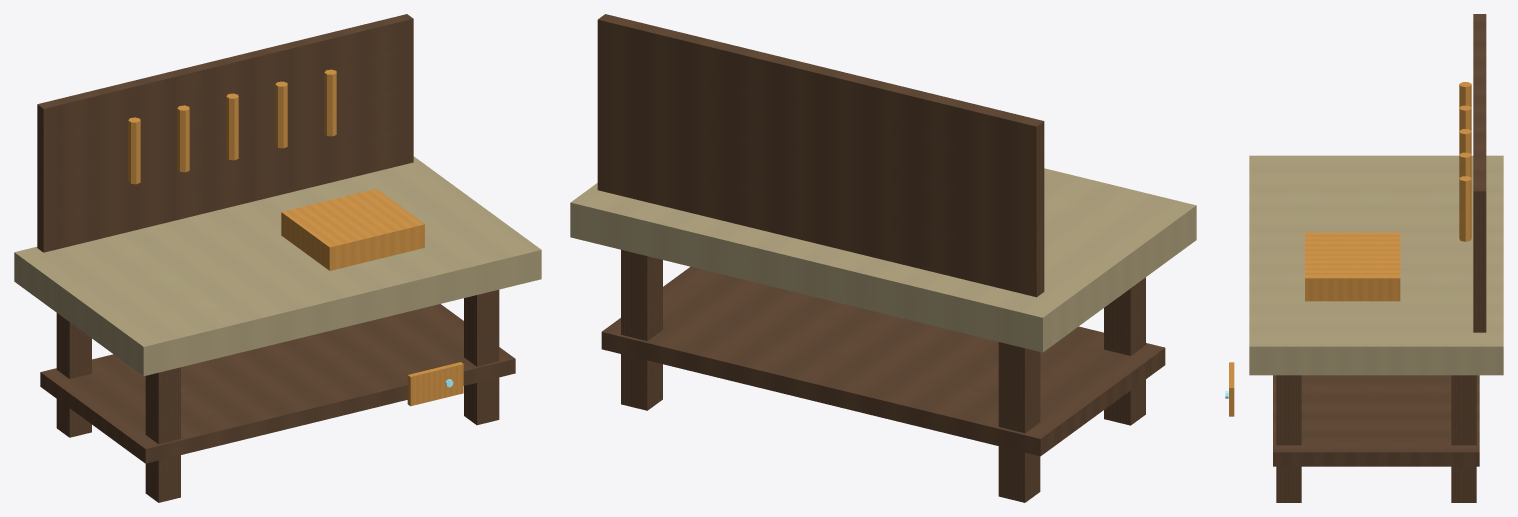
The model's file is atlas100-s020-a06.lod1.glb.
The picture shows the model from 3 angles, left to right: view 1: azimuth 30°, elevation 25°; view 2: azimuth 150°, elevation 25°; view 3: azimuth 270°, elevation 25°; orthographic projection. The views are drawn at different scales.
Visible parts, largest first — view 1: atlas100-s020-a06:part-004, atlas100-s020-a06:part-006, atlas100-s020-a06:part-005, atlas100-s020-a06:part-012, atlas100-s020-a06:part-003, atlas100-s020-a06:part-001, atlas100-s020-a06:part-000, atlas100-s020-a06:part-013, atlas100-s020-a06:part-007, atlas100-s020-a06:part-009, atlas100-s020-a06:part-011, atlas100-s020-a06:part-008 (+1 smaller); view 2: atlas100-s020-a06:part-006, atlas100-s020-a06:part-005, atlas100-s020-a06:part-004, atlas100-s020-a06:part-000, atlas100-s020-a06:part-002, atlas100-s020-a06:part-001; view 3: atlas100-s020-a06:part-004, atlas100-s020-a06:part-005, atlas100-s020-a06:part-012, atlas100-s020-a06:part-006, atlas100-s020-a06:part-002, atlas100-s020-a06:part-003, atlas100-s020-a06:part-011, atlas100-s020-a06:part-013, atlas100-s020-a06:part-010.
Part boxes in pixels (<box>): atlas100-s020-a06:part-004: <box>14,156,541,376</box>; atlas100-s020-a06:part-006: <box>37,14,413,252</box>; atlas100-s020-a06:part-005: <box>40,304,515,463</box>; atlas100-s020-a06:part-012: <box>281,189,424,270</box>; atlas100-s020-a06:part-003: <box>464,289,499,425</box>; atlas100-s020-a06:part-001: <box>145,367,180,502</box>; atlas100-s020-a06:part-000: <box>56,313,91,437</box>; atlas100-s020-a06:part-013: <box>407,362,463,406</box>; atlas100-s020-a06:part-007: <box>128,117,140,184</box>; atlas100-s020-a06:part-009: <box>226,93,238,160</box>; atlas100-s020-a06:part-011: <box>324,69,336,136</box>; atlas100-s020-a06:part-008: <box>177,105,189,172</box>; atlas100-s020-a06:part-006: <box>597,14,1044,297</box>; atlas100-s020-a06:part-005: <box>601,266,1165,456</box>; atlas100-s020-a06:part-004: <box>570,168,1196,352</box>; atlas100-s020-a06:part-000: <box>998,342,1040,502</box>; atlas100-s020-a06:part-002: <box>621,250,662,410</box>; atlas100-s020-a06:part-001: <box>1104,277,1145,425</box>; atlas100-s020-a06:part-004: <box>1249,155,1503,375</box>; atlas100-s020-a06:part-005: <box>1273,375,1479,466</box>; atlas100-s020-a06:part-012: <box>1305,232,1400,301</box>; atlas100-s020-a06:part-006: <box>1473,14,1486,332</box>; atlas100-s020-a06:part-002: <box>1451,375,1476,502</box>; atlas100-s020-a06:part-003: <box>1276,375,1301,502</box>; atlas100-s020-a06:part-011: <box>1459,176,1471,241</box>; atlas100-s020-a06:part-013: <box>1229,362,1234,416</box>; atlas100-s020-a06:part-010: <box>1459,152,1471,177</box>.
Bounding box in the file's own units: 2.84 × 2.21 × 1.75.
Materials: 4 (4 with a texture image).
